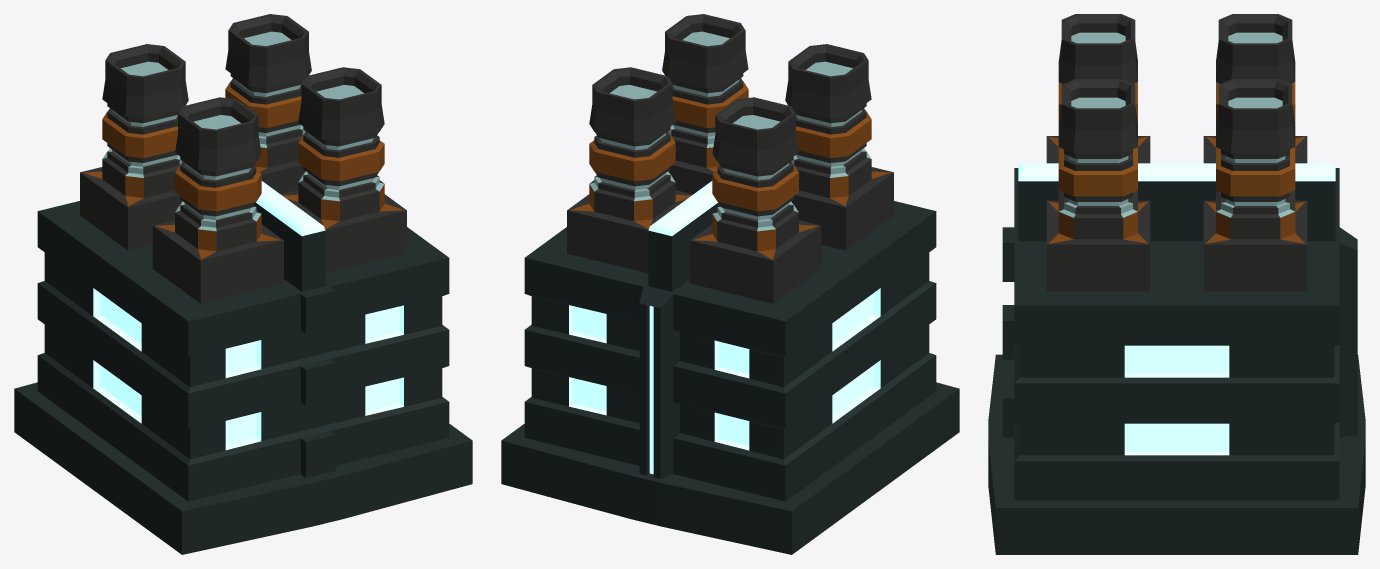
File: ChefBossPylons.fbx
3 renders of one model, left to right at view 1: azimuth 30°, elevation 25°; view 2: azimuth 150°, elevation 25°; view 3: azimuth 270°, elevation 25°, orthographic. The views are drawn at different scales.
Visible parts, largest first — view 1: Pylons, Base, Base_cell.027, Base_cell.006, Base_cell.010, Base_cell.056, Base_cell.019, Base_cell.059, Base_cell.026, Base_cell.008, Base_cell.057, Base_cell.011 (+19 smaller); view 2: Base, Pylons, Base_cell.010, Base_cell.027, Base_cell.019, Base_cell.033, Base_cell.055, Base_cell.002, Base_cell.051, Base_cell.009, Base_cell.016, Base_cell.003 (+6 smaller); view 3: Base, Pylons, Base_cell.004, Base_cell.056, Base_cell.020, Base_cell.009, Base_cell.047, Base_cell.003, Base_cell.002, Base_cell.028, Base_cell.051, Base_cell.046 (+7 smaller).
Part boxes in pixels (x1,y1,x2,y2): Pylons: (80, 14, 406, 303); Base: (14, 181, 472, 554); Base_cell.027: (66, 300, 142, 486); Base_cell.006: (169, 387, 246, 554); Base_cell.010: (108, 369, 239, 543); Base_cell.056: (400, 402, 472, 501); Base_cell.019: (23, 356, 99, 472); Base_cell.059: (183, 301, 276, 396); Base_cell.026: (114, 423, 295, 553); Base_cell.008: (346, 390, 415, 480); Base_cell.057: (239, 446, 357, 520); Base_cell.011: (365, 315, 439, 376); Base: (501, 200, 958, 554); Pylons: (567, 14, 893, 303); Base_cell.010: (865, 290, 946, 479); Base_cell.027: (805, 301, 889, 472); Base_cell.019: (719, 437, 877, 525); Base_cell.033: (711, 295, 808, 391); Base_cell.055: (872, 215, 931, 321); Base_cell.002: (510, 418, 573, 481); Base_cell.051: (594, 264, 735, 319); Base_cell.009: (655, 181, 717, 266); Base_cell.016: (768, 384, 823, 465); Base_cell.003: (525, 227, 611, 274); Base: (988, 163, 1365, 554); Pylons: (1046, 14, 1307, 291); Base_cell.004: (1121, 261, 1289, 541); Base_cell.056: (991, 461, 1157, 554); Base_cell.020: (1014, 305, 1159, 391); Base_cell.009: (1174, 163, 1335, 264); Base_cell.047: (1254, 349, 1339, 418); Base_cell.003: (1205, 267, 1339, 324); Base_cell.002: (1234, 472, 1362, 531); Base_cell.028: (1232, 325, 1339, 358); Base_cell.051: (1307, 198, 1357, 268); Base_cell.046: (1223, 495, 1362, 554).
Bounding box in the file's own units: 698 × 885 × 728.
